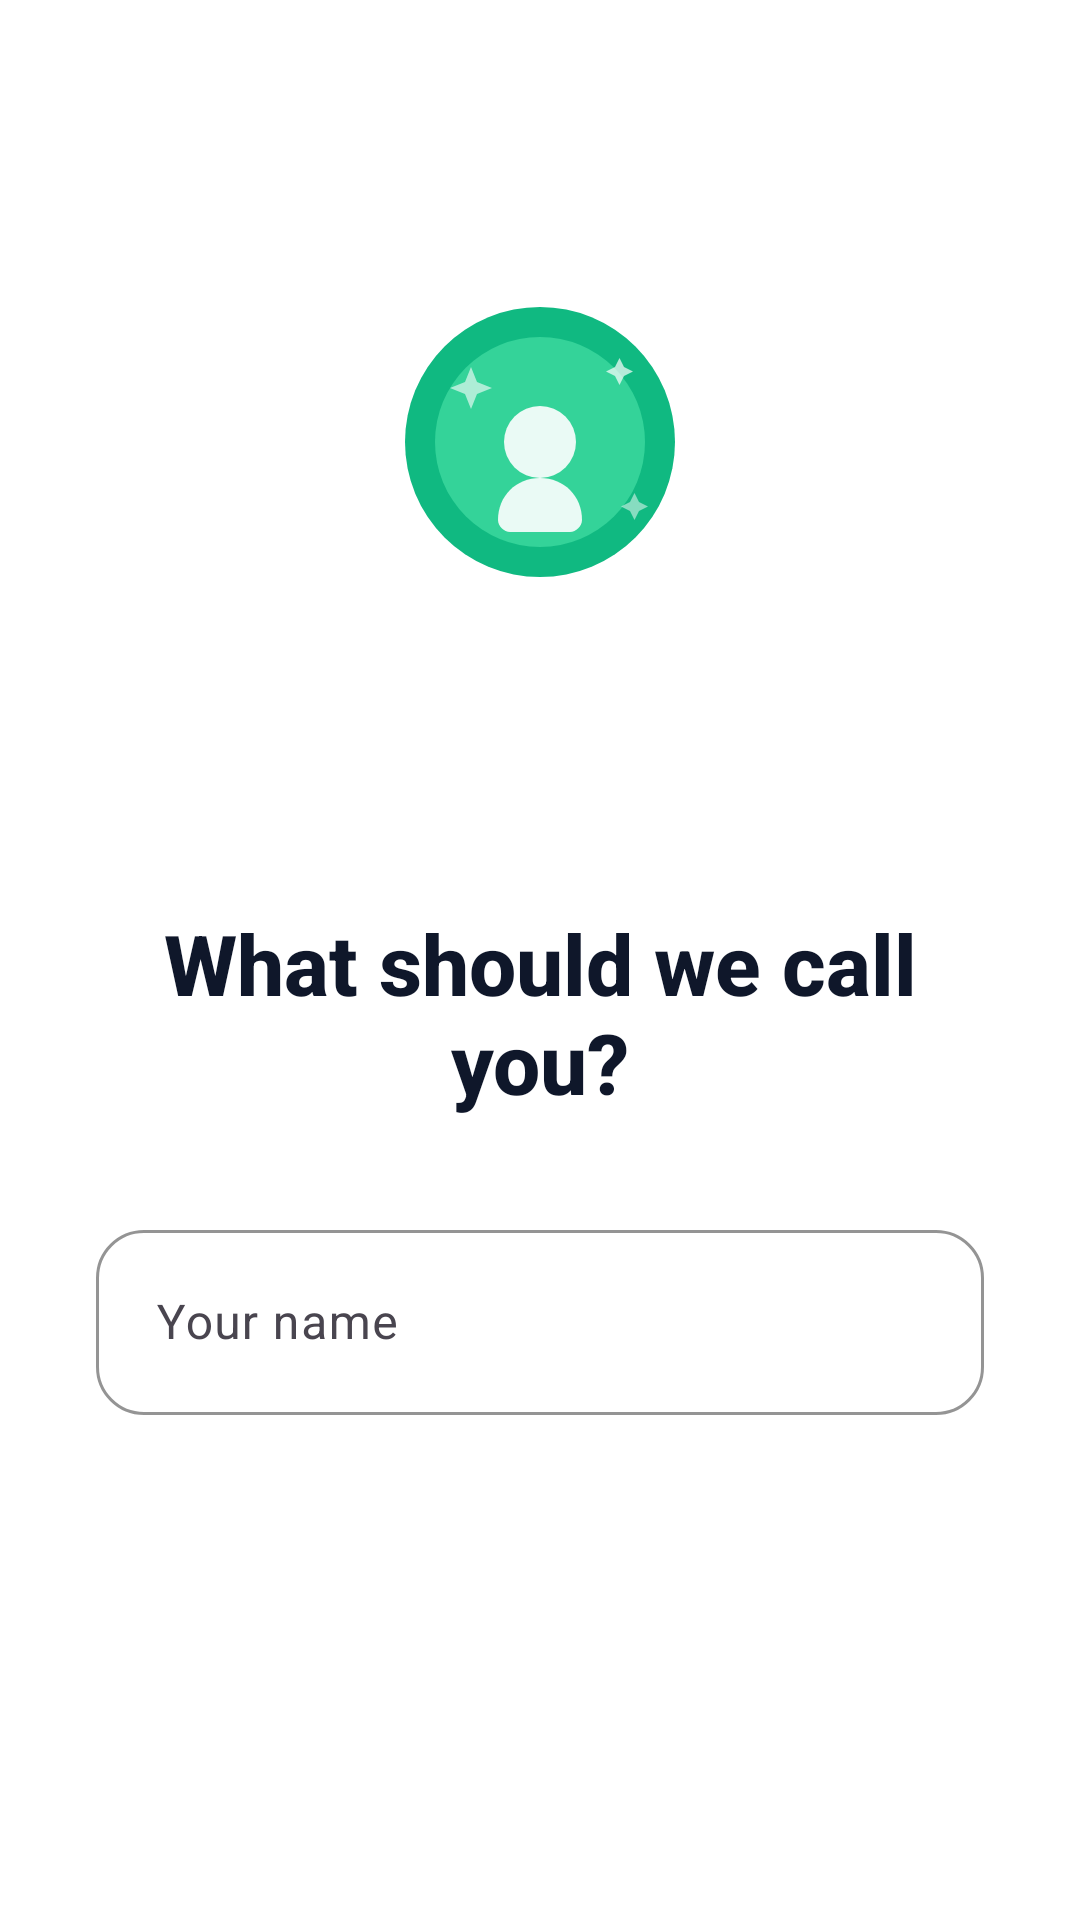

Icon bounding boxes for this 1080px x 1920px phone screenshot, format [left=x1, top=y1, right=x2, bottom=y2]:
Profile setup illustration: [left=405, top=307, right=675, bottom=577]
